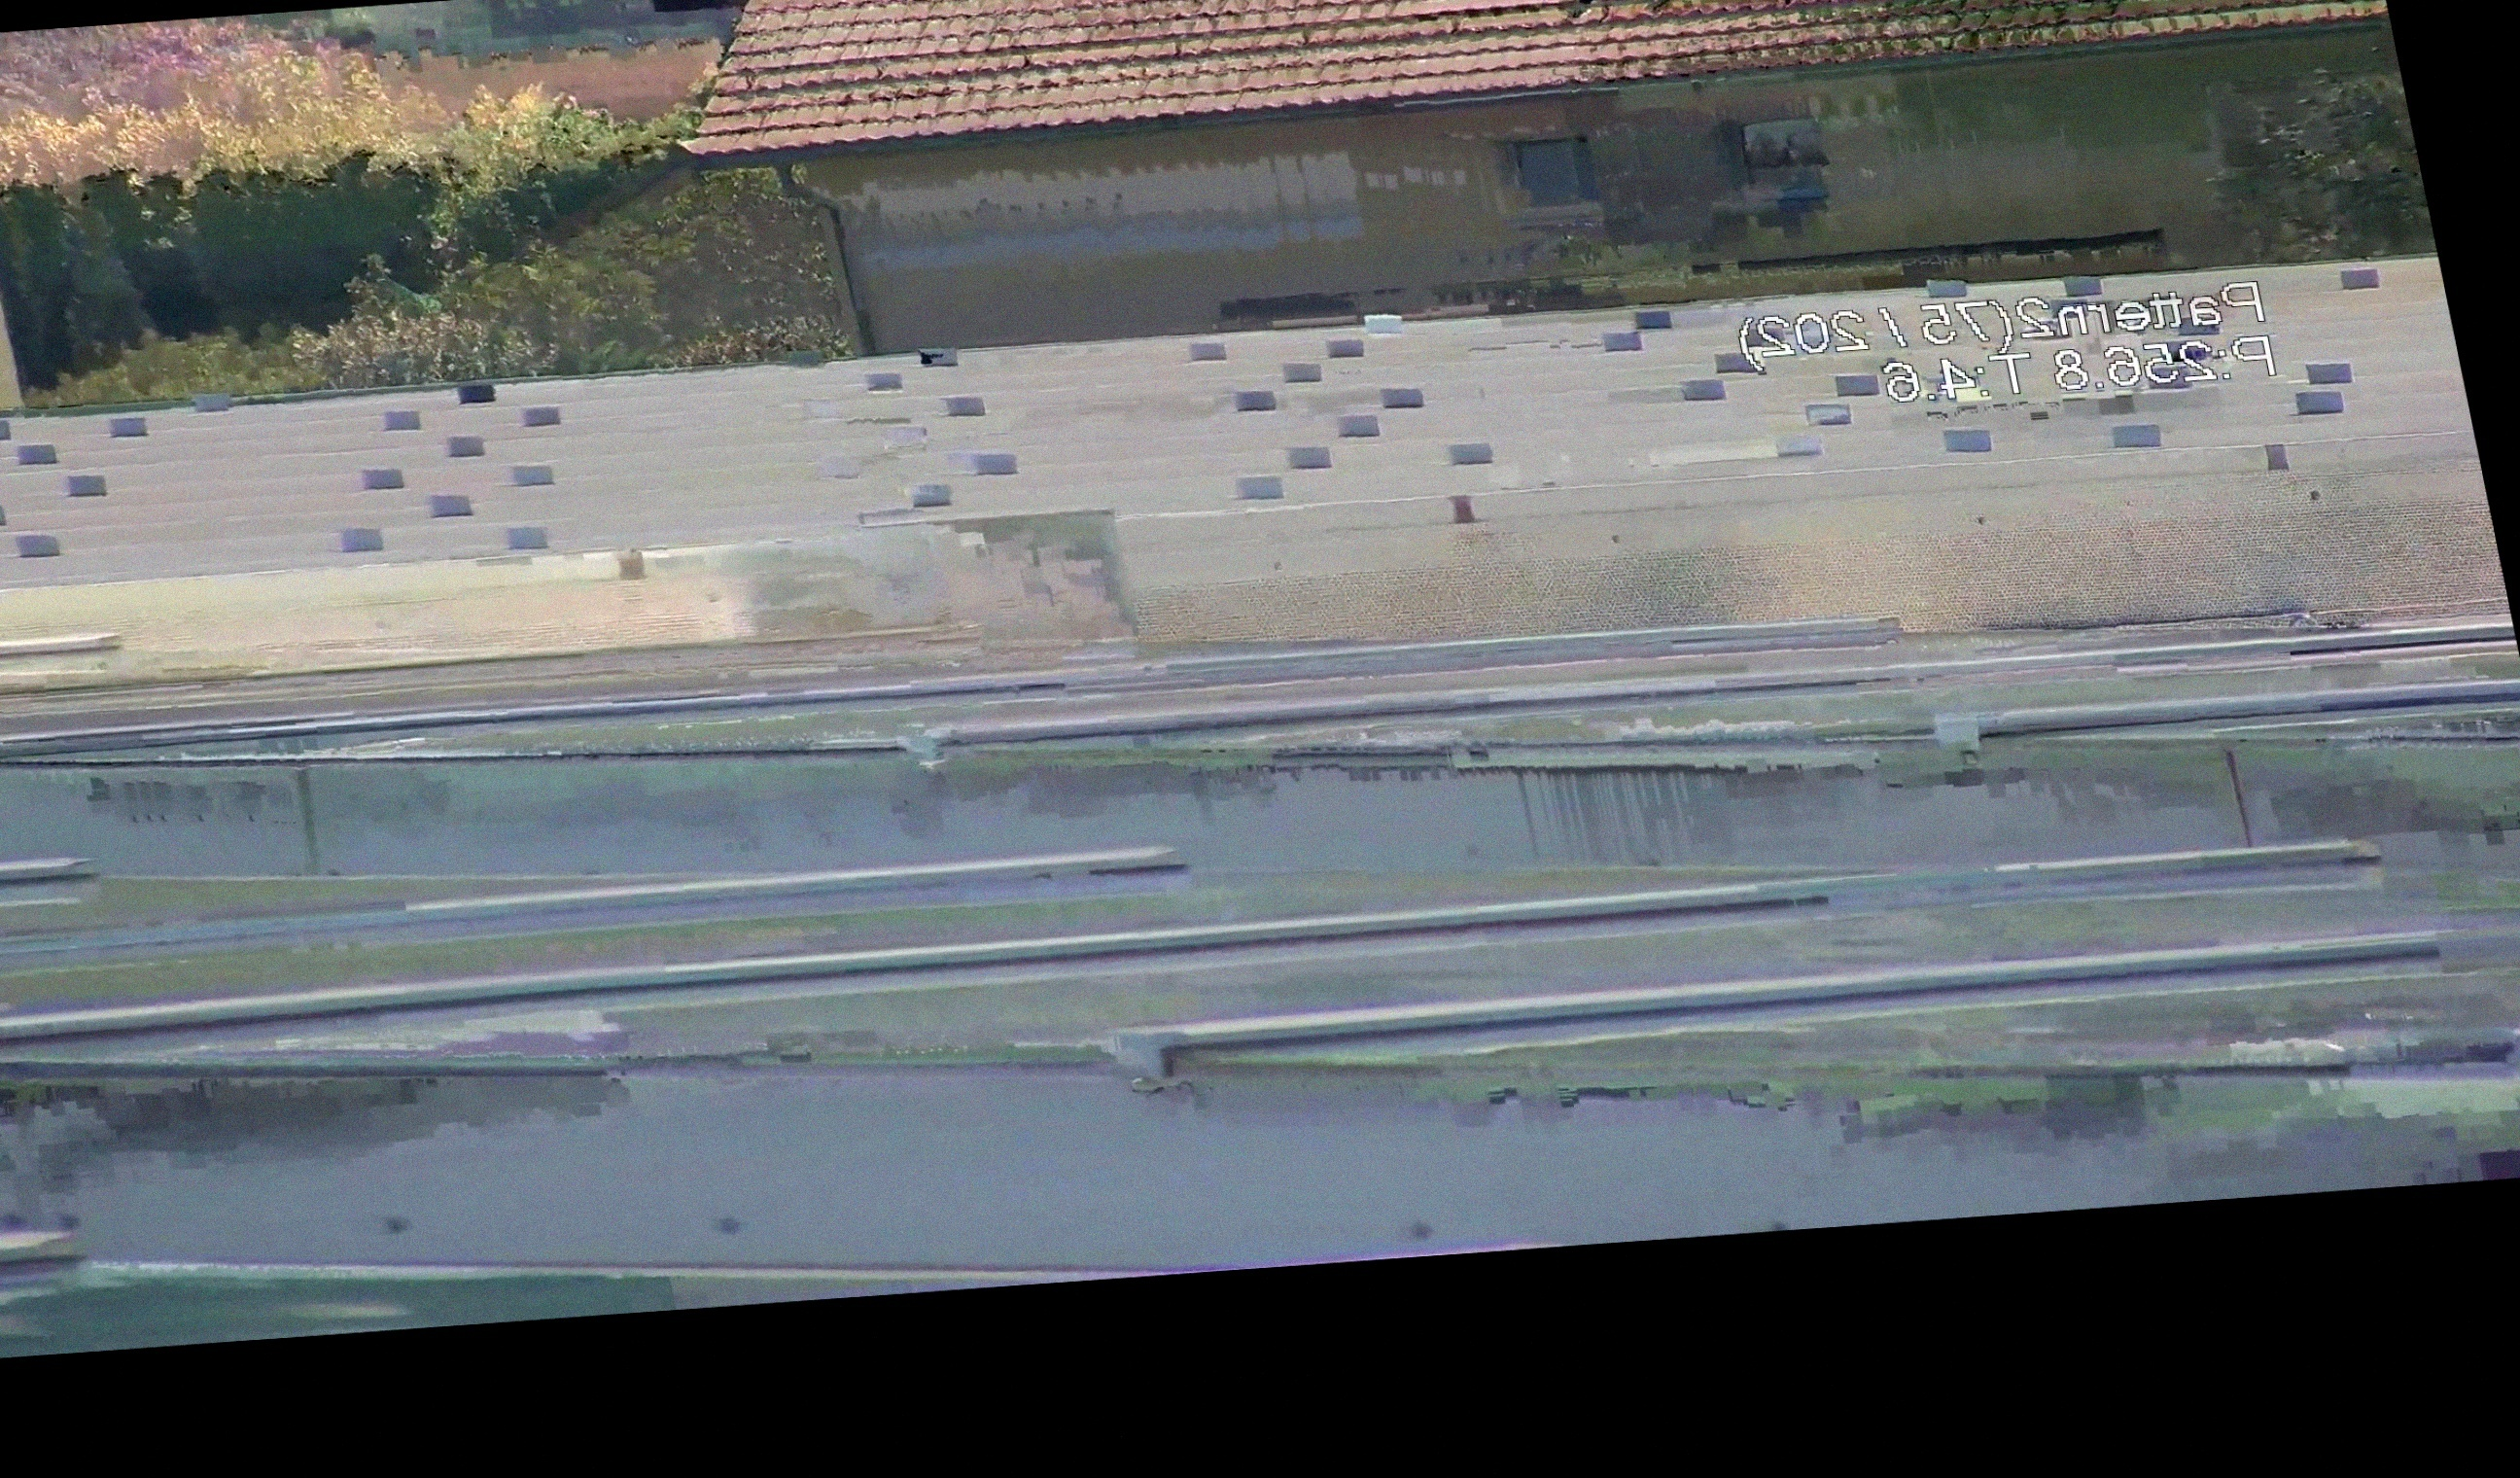Other: (1530, 0, 1630, 18)
